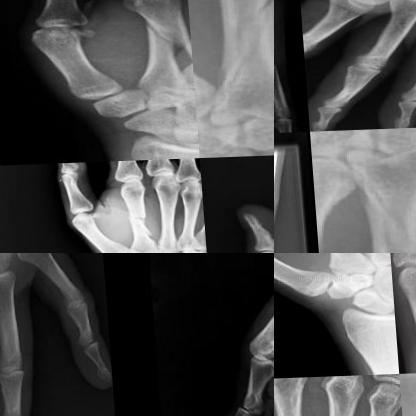fracture: (342, 195, 415, 252), (125, 9, 190, 70), (120, 204, 150, 243)
